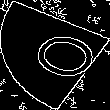O_SE: (11, 24, 99, 86)
